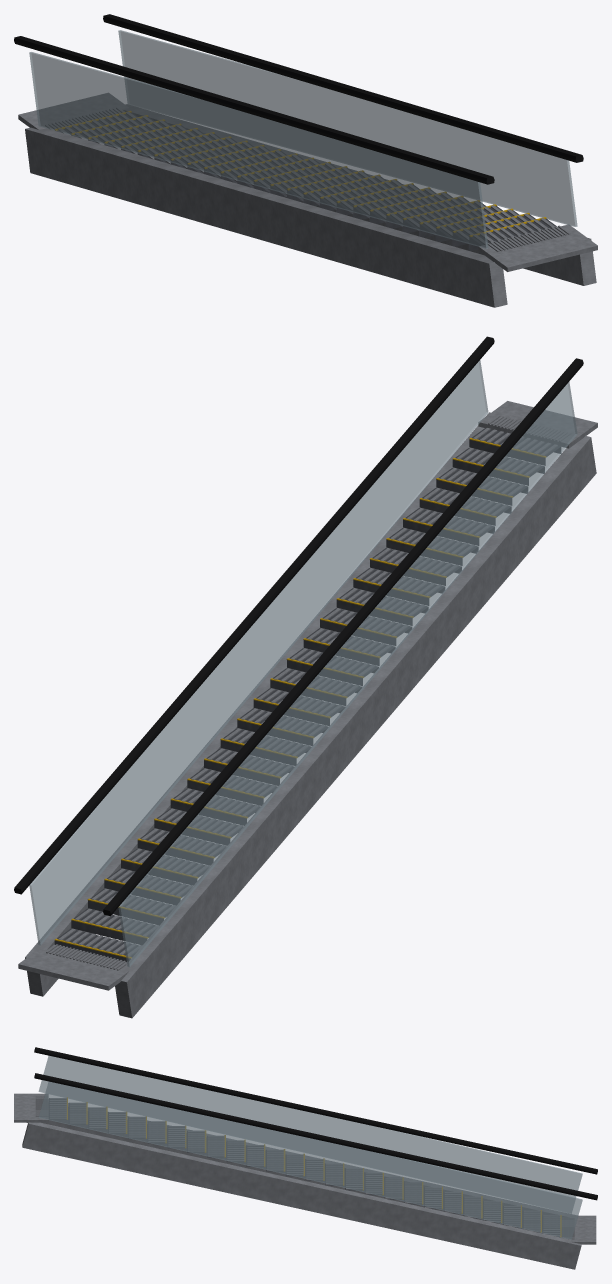
Rendered from escalator.obj.
The picture shows the model from 3 angles, top to bottom: view 1: azimuth 30°, elevation 25°; view 2: azimuth 150°, elevation 25°; view 3: azimuth 270°, elevation 25°; orthographic projection. The views are drawn at different scales.
Parts seen in each view (by area): view 1: escalator; view 2: escalator; view 3: escalator.
Part boxes in pixels (x1,y1,x2,y2): escalator: [14, 14, 597, 307]; escalator: [14, 336, 597, 1018]; escalator: [14, 1047, 597, 1269].
Bounding box in the file's own units: 1.42 × 4.34 × 11.83.
